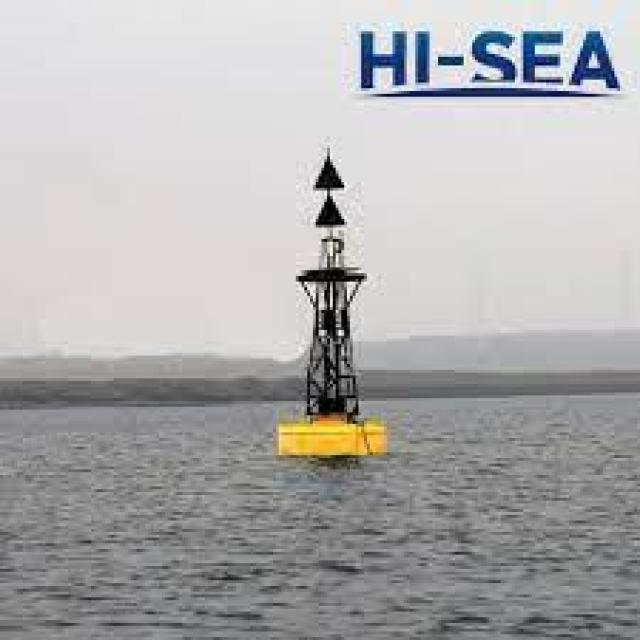marque: (281, 150, 398, 448)
